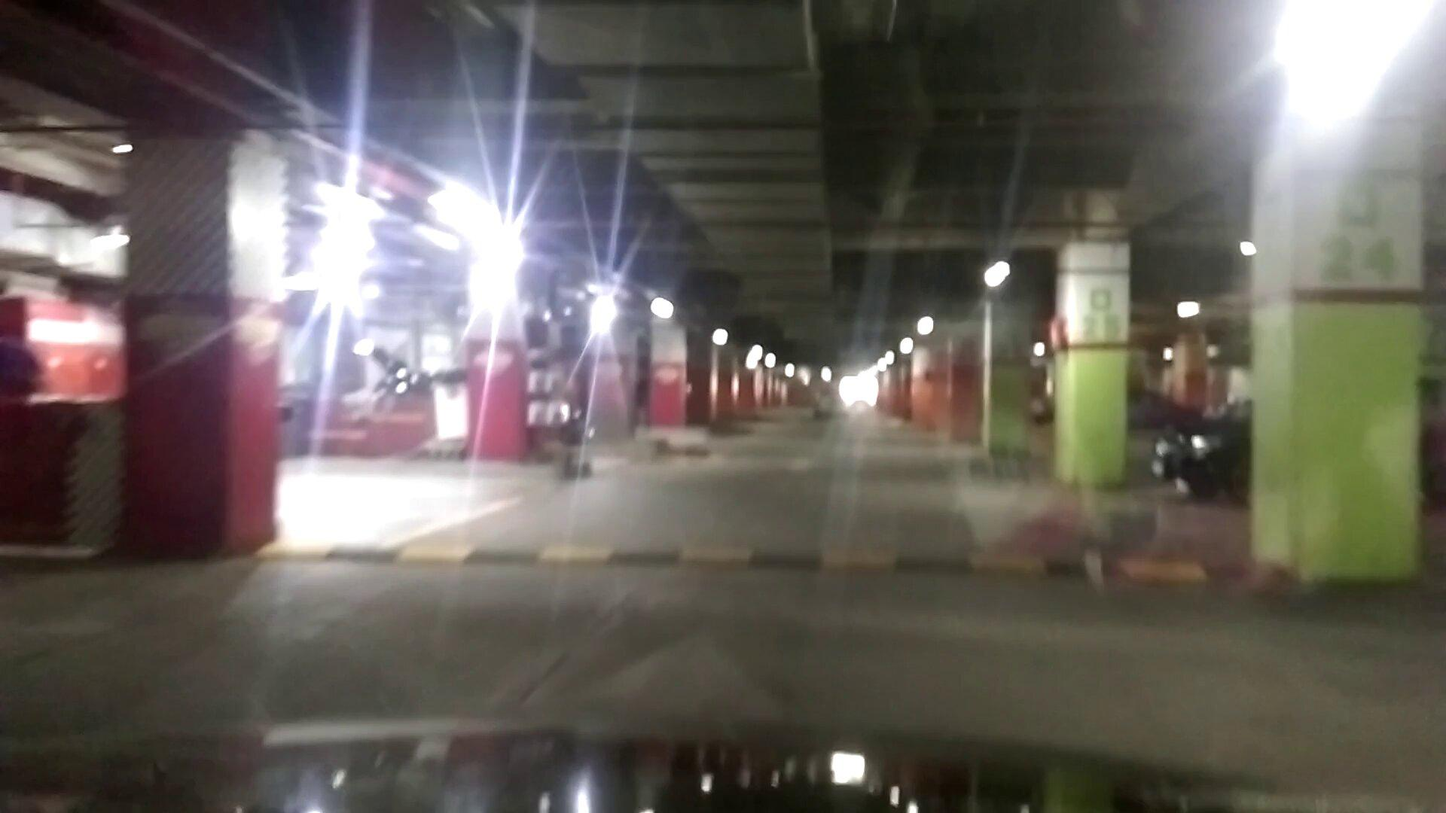Bump: (249, 536, 1254, 582)
